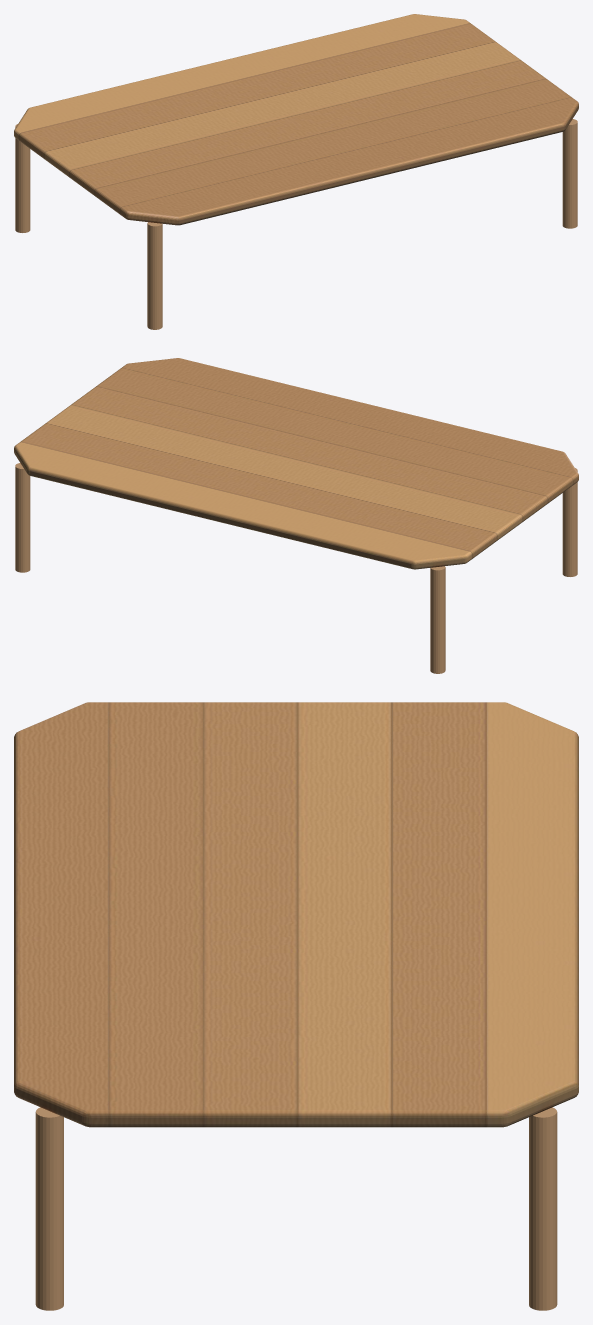
3 views of the same model, one above another, from view 1: azimuth 30°, elevation 25°; view 2: azimuth 150°, elevation 25°; view 3: azimuth 270°, elevation 25° (orthographic). The views are drawn at different scales.
Visible parts, largest first — view 1: HORNEADO_tablero, pata_-1_1, pata_1_1, pata_-1_-1; view 2: HORNEADO_tablero, pata_-1_-1, pata_1_-1, pata_-1_1; view 3: HORNEADO_tablero, pata_1_1, pata_1_-1.
Boxes of the visible parts, x1=… form: HORNEADO_tablero: x1=14, y1=14, x2=578, y2=225; pata_-1_1: x1=147, y1=222, x2=162, y2=329; pata_1_1: x1=562, y1=119, x2=577, y2=228; pata_-1_-1: x1=15, y1=124, x2=30, y2=232; HORNEADO_tablero: x1=14, y1=358, x2=578, y2=569; pata_-1_-1: x1=430, y1=566, x2=445, y2=673; pata_1_-1: x1=15, y1=463, x2=30, y2=572; pata_-1_1: x1=562, y1=468, x2=577, y2=576; HORNEADO_tablero: x1=14, y1=702, x2=578, y2=1127; pata_1_1: x1=35, y1=1107, x2=63, y2=1310; pata_1_-1: x1=529, y1=1107, x2=557, y2=1310.
Size of what is drawn, in the model's own units: 38 by 9 by 22.
2 materials, 1 textured.
